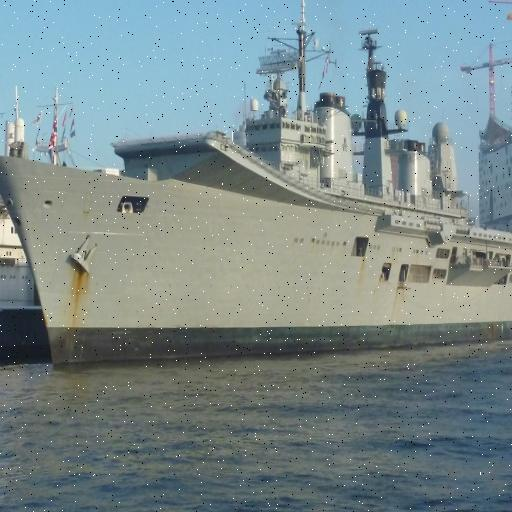Portanaves: (1, 45, 512, 376)
